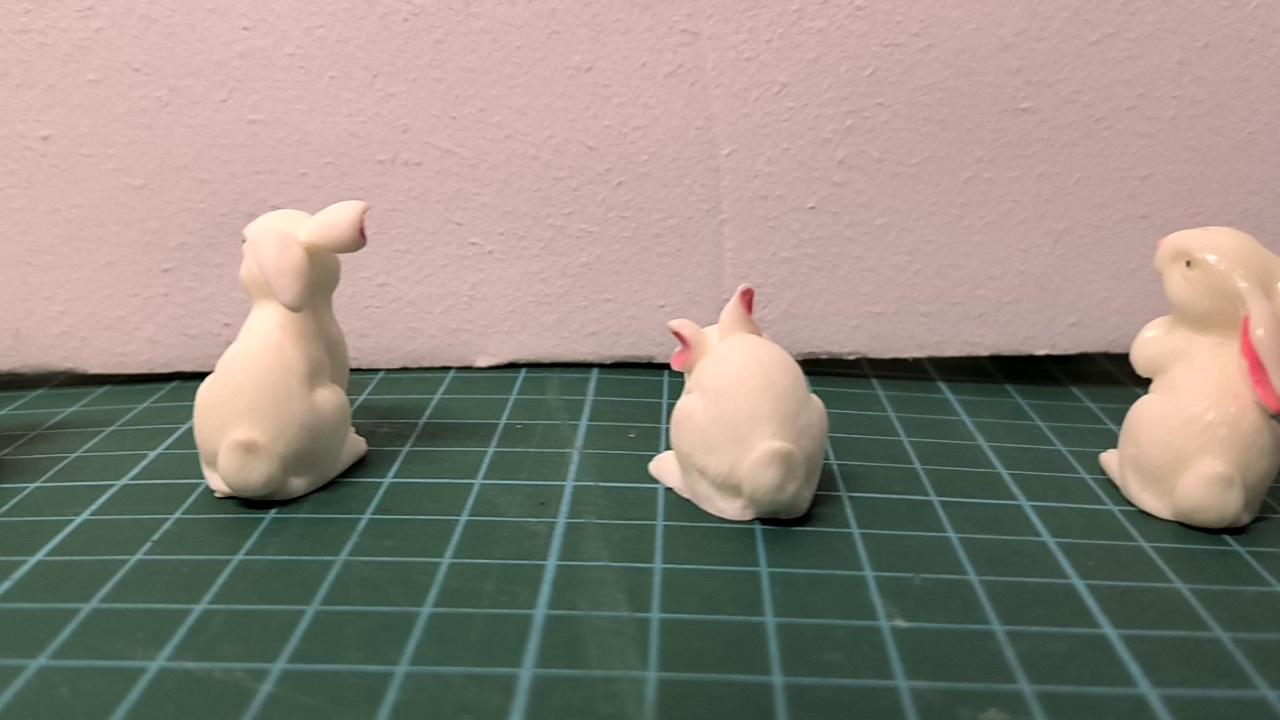pet: (190, 200, 374, 502), (1099, 228, 1280, 533), (644, 283, 831, 524)
